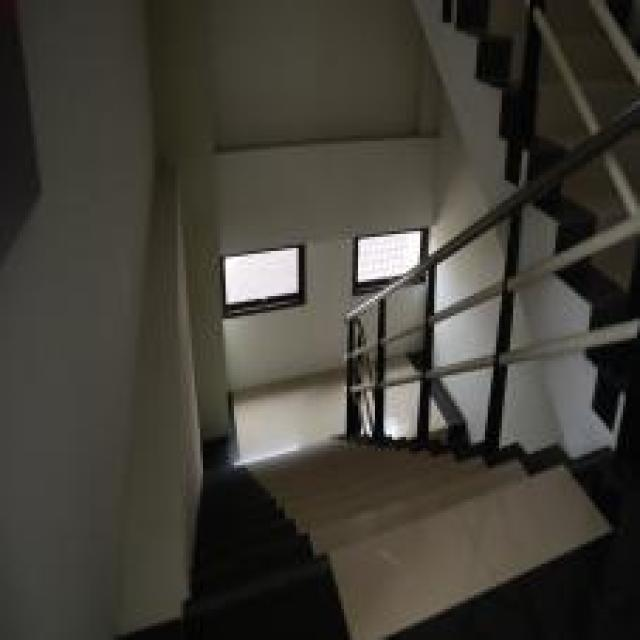downstair: (204, 444, 511, 624)
